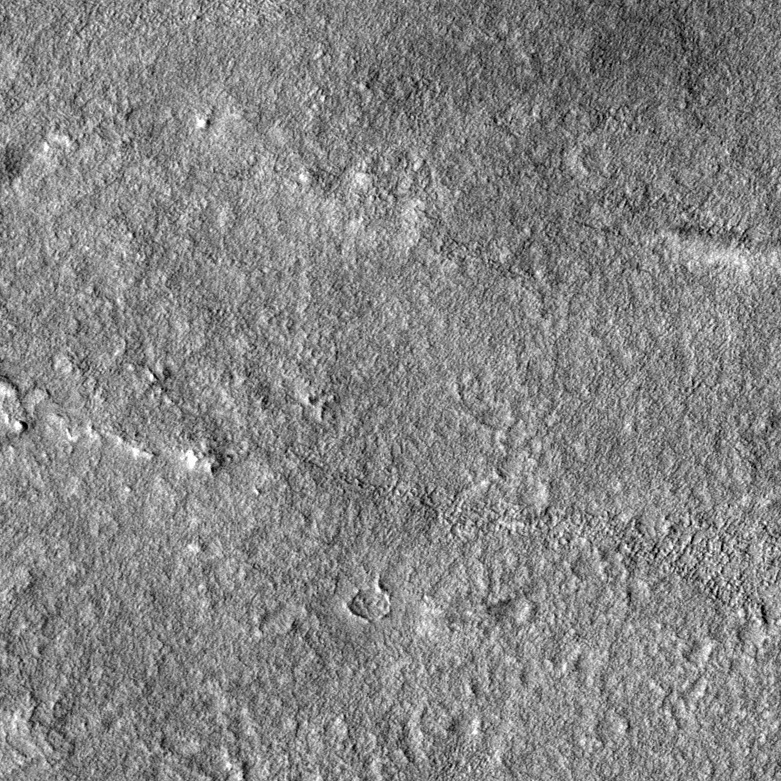dust_devil: (654, 221, 781, 277)
